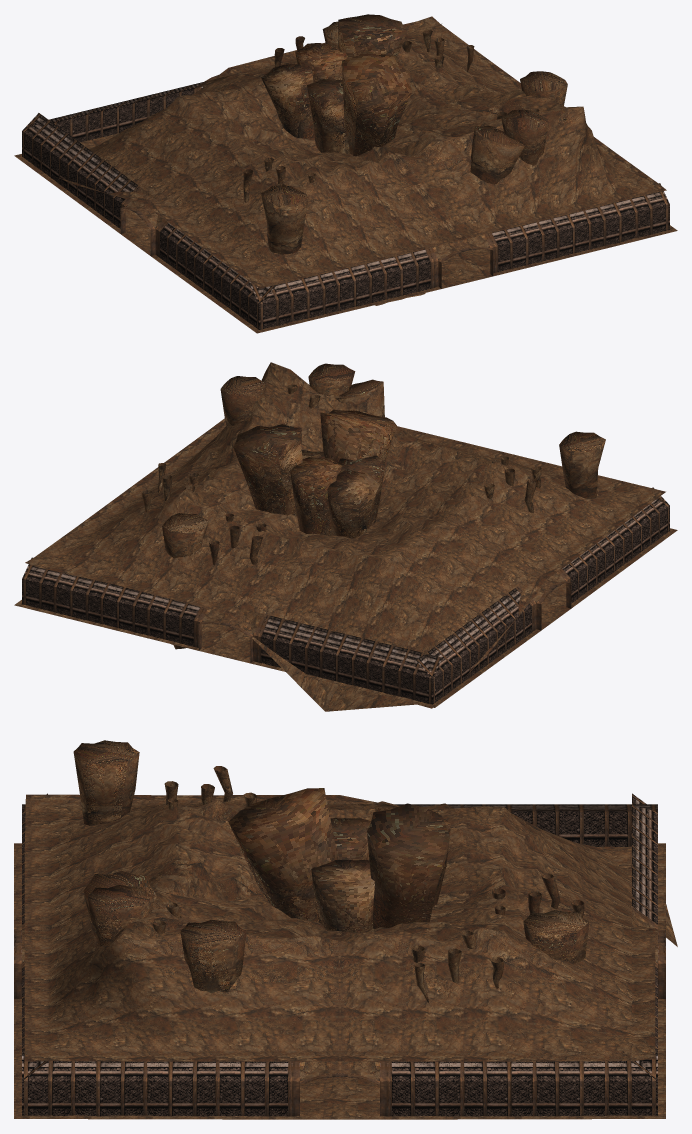
File: lvl3.gltf
3 renders of one model, top to bottom at view 1: azimuth 30°, elevation 25°; view 2: azimuth 150°, elevation 25°; view 3: azimuth 270°, elevation 25°, orthographic. The views are drawn at different scales.
Visible parts, largest first — view 1: ceiling.003, pillar.002-col, walls.014-col, walls.011-col, ground.003, walls.012-col, krapnik.001; view 2: ceiling.003, pillar.002-col, walls.012-col, walls.011-col, ground.003, krapnik.001; view 3: ceiling.003, pillar.002-col, walls.013-col, ground.003, walls.011-col, walls.012-col, krapnik.001, walls.014-col.
Part boxes in pixels (x1,y1,x2,y2): ceiling.003: (56, 16, 666, 288); pillar.002-col: (261, 14, 567, 254); walls.014-col: (249, 183, 669, 329); walls.011-col: (22, 113, 275, 329); ground.003: (14, 133, 677, 333); walls.012-col: (23, 24, 441, 142); krapnik.001: (243, 29, 566, 202); ceiling.003: (25, 362, 665, 711); pillar.002-col: (162, 363, 605, 649); walls.012-col: (22, 557, 441, 704); walls.011-col: (416, 487, 669, 704); ground.003: (14, 528, 677, 707); krapnik.001: (141, 384, 541, 565); ceiling.003: (24, 794, 677, 1061); pillar.002-col: (73, 740, 589, 993); walls.013-col: (22, 1051, 657, 1116); ground.003: (14, 843, 665, 1119); walls.011-col: (22, 804, 657, 846); walls.012-col: (632, 793, 665, 1080); krapnik.001: (152, 766, 584, 1003); walls.014-col: (14, 793, 47, 1079).
Size of what is drawn, in the model's own units: 41 by 18.93 by 41.75.
Materials: 2 (2 with a texture image).
